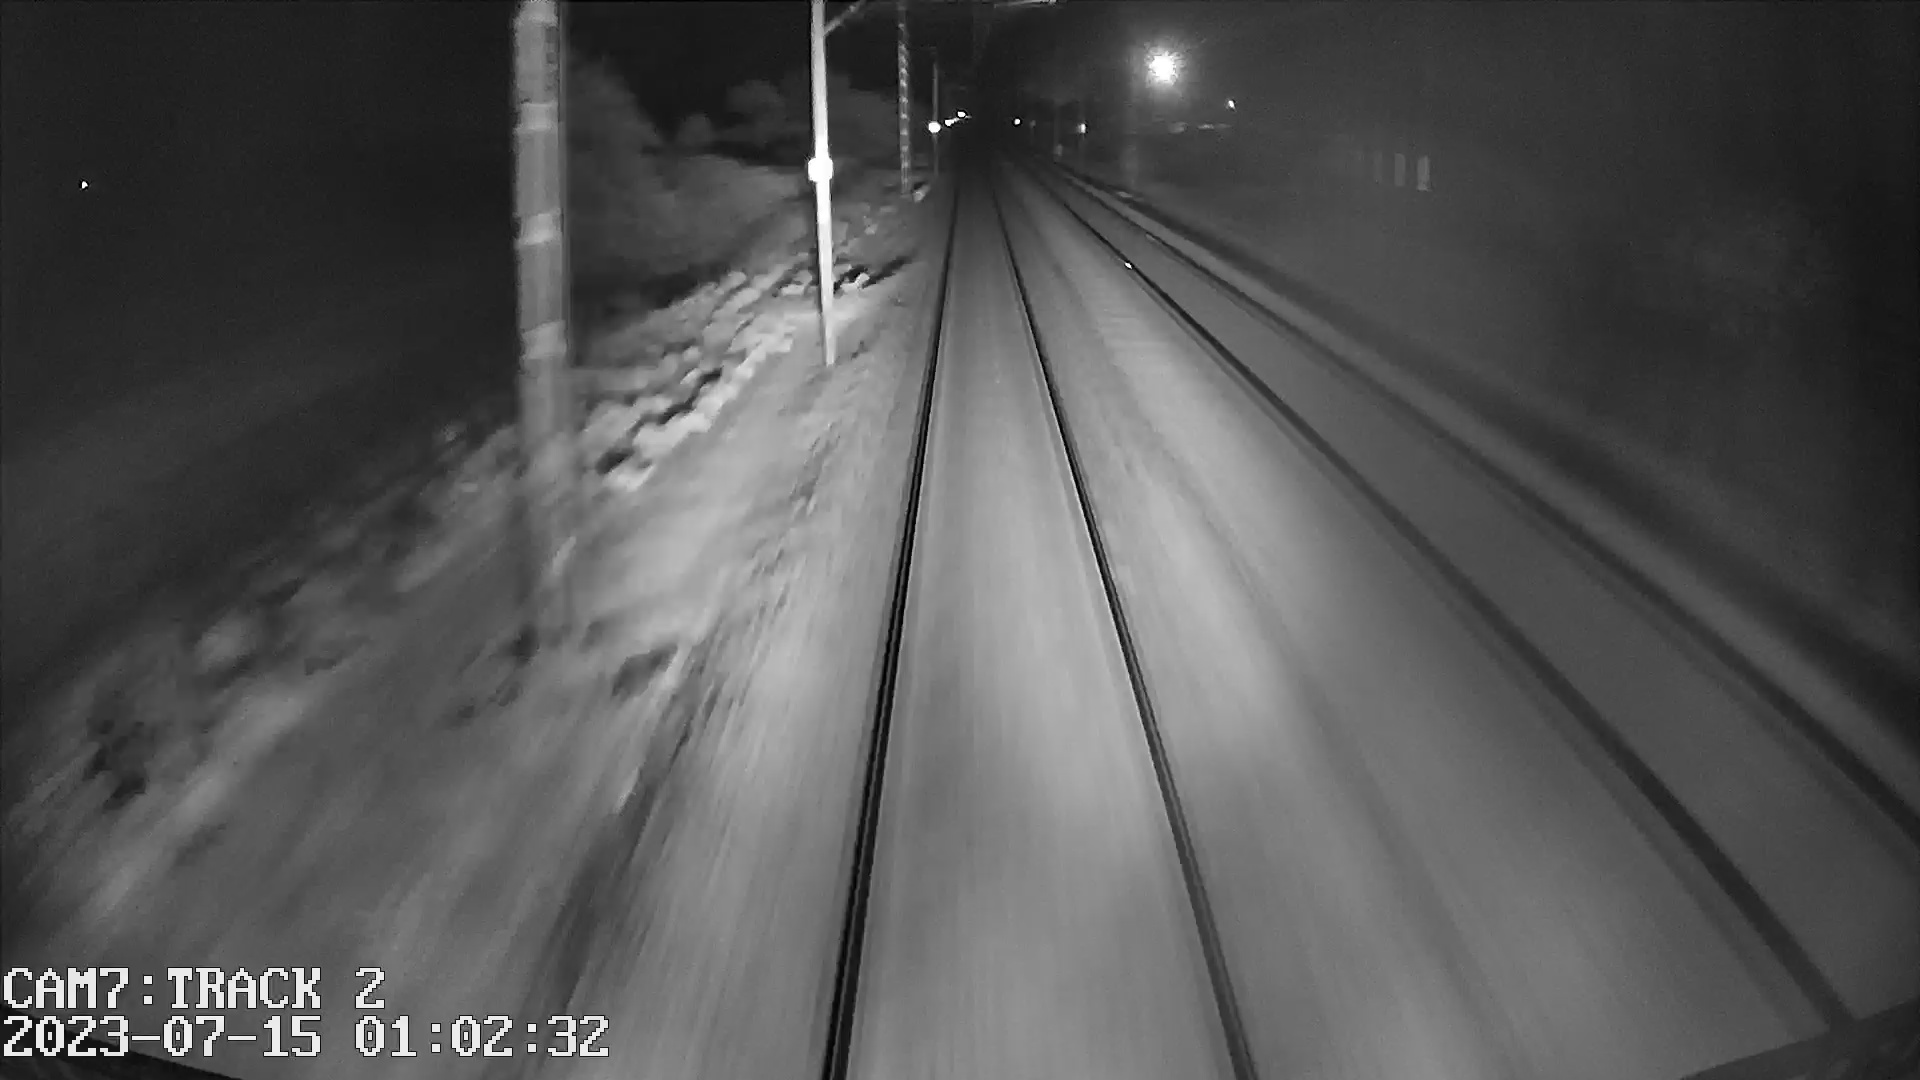track1: (843, 167, 1246, 1055)
track2: (1044, 183, 1902, 977)
